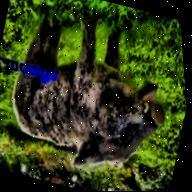boar: (0, 14, 192, 190)
